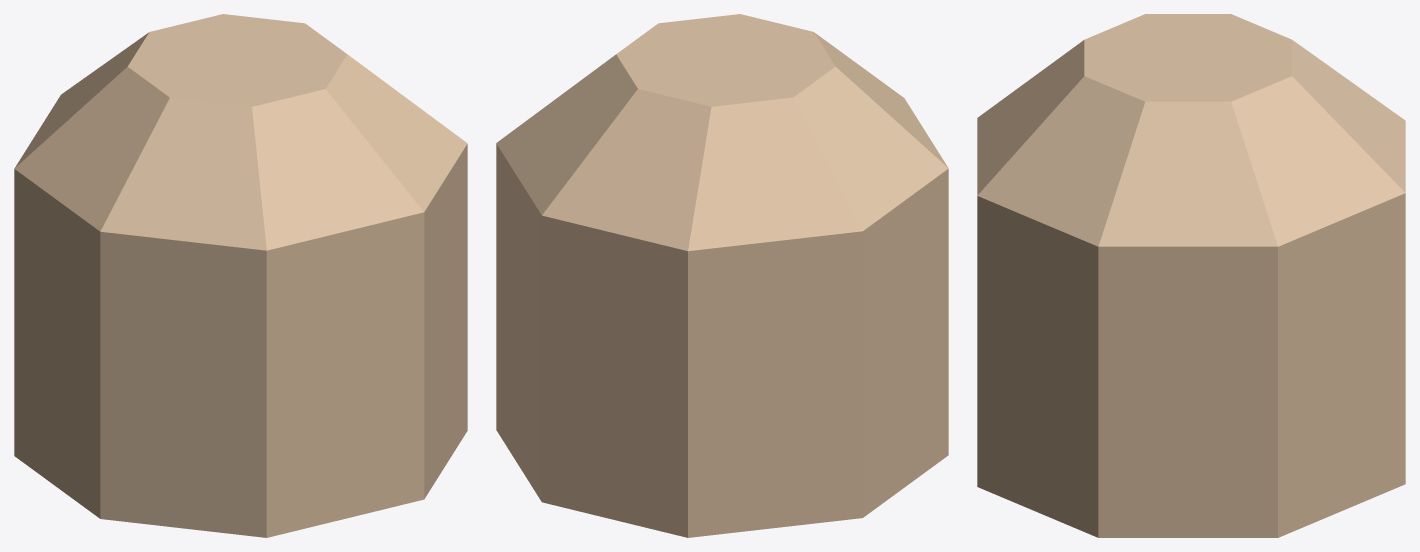
Rendered from Wall_End_Coping.fbx.
The picture shows the model from 3 angles, left to right: view 1: azimuth 30°, elevation 25°; view 2: azimuth 150°, elevation 25°; view 3: azimuth 270°, elevation 25°; orthographic projection.
Visible parts, largest first — view 1: object1; view 2: object1; view 3: object1.
Part boxes in pixels (left/top/right/bottom): object1: left=14, top=14, right=467, bottom=537; object1: left=496, top=14, right=948, bottom=537; object1: left=977, top=14, right=1405, bottom=537.
Bounding box in the file's own units: 0.2 × 0.2 × 0.2.
